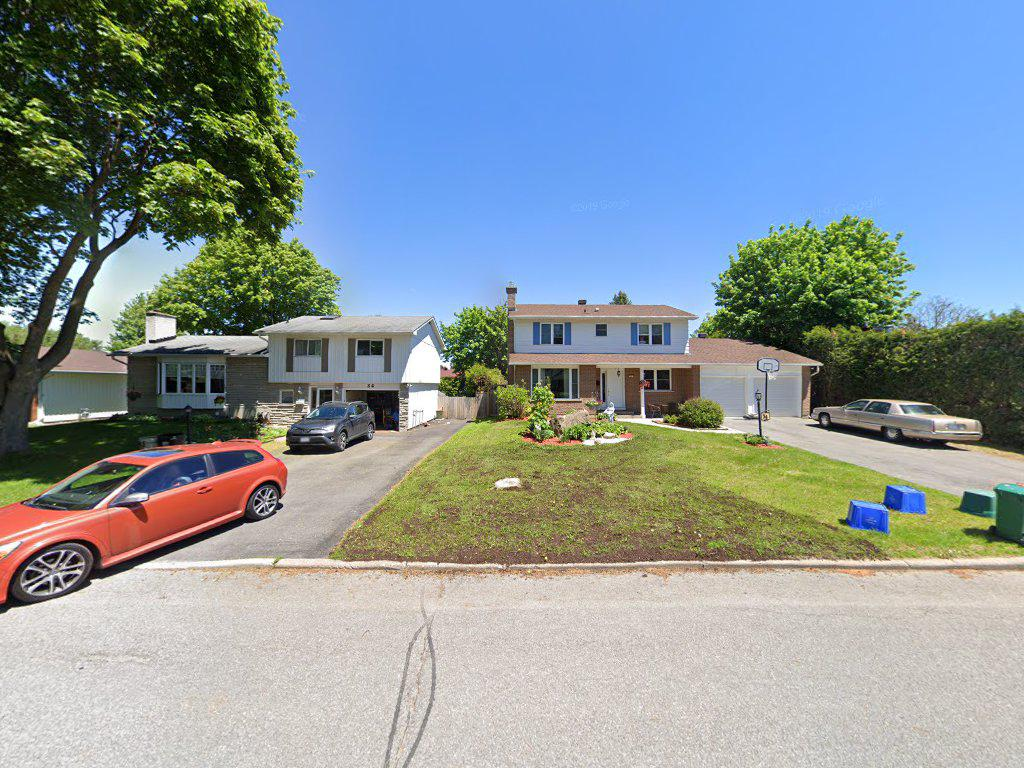trunk: (4, 308, 41, 463)
